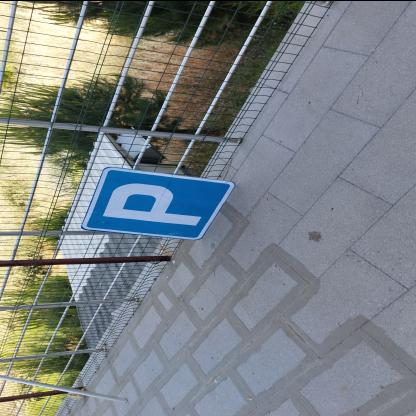Parking-Sign: (81, 167, 237, 241)
